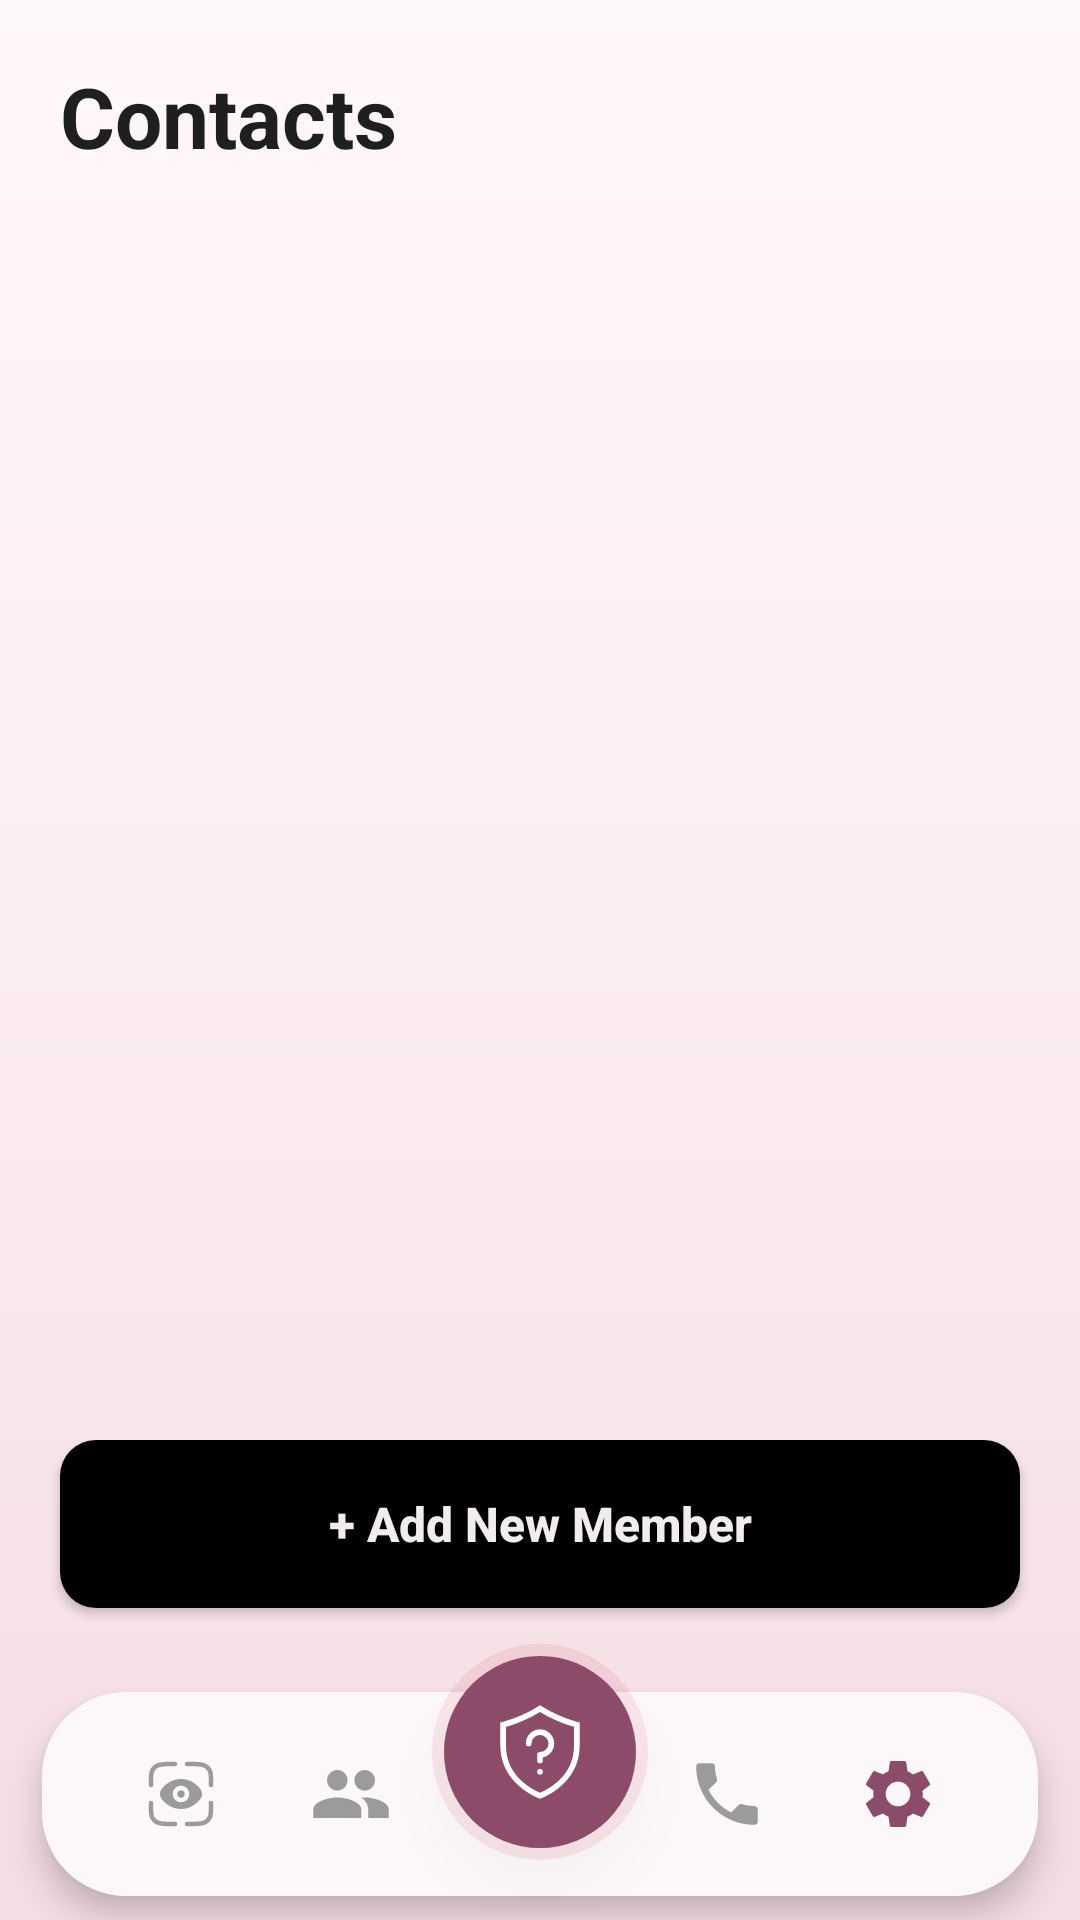

Point at icon controls on the screen. Image size 1080 × 1920, points as point (x, y).
Call: point (727, 1794)
Contacts: point (351, 1794)
Evidence: point (181, 1794)
Settings: point (898, 1794)
